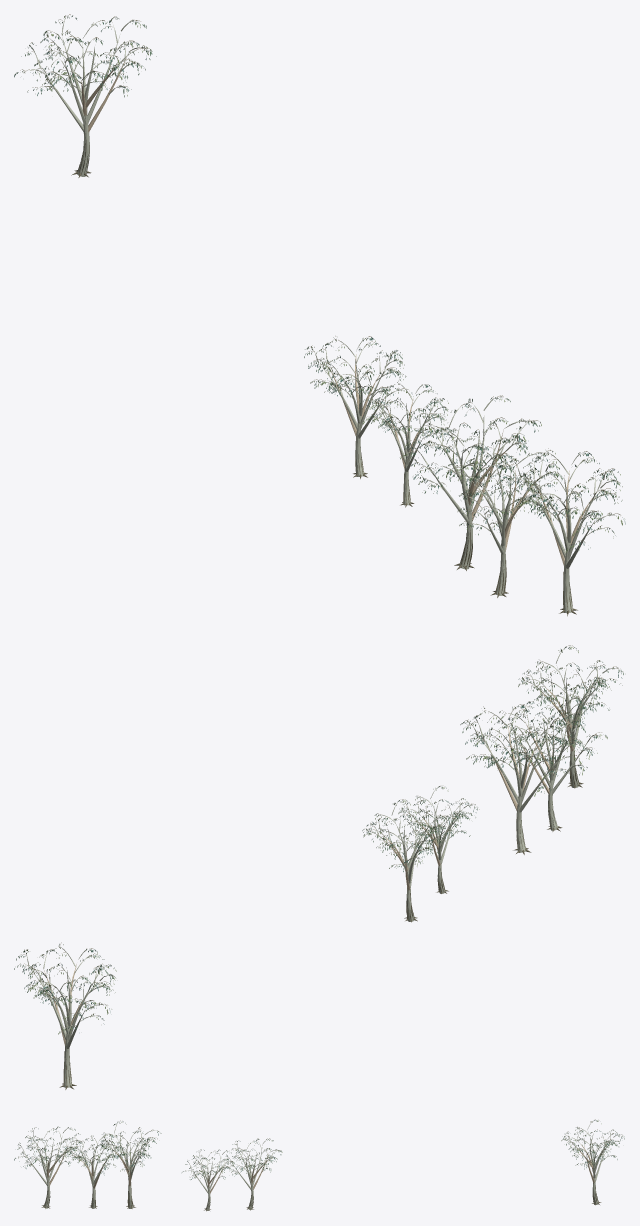
The model's file is ecology-eucalyptus-mid-8.glb.
3 renders of one model, top to bottom at view 1: azimuth 30°, elevation 25°; view 2: azimuth 150°, elevation 25°; view 3: azimuth 270°, elevation 25°, orthographic. The views are drawn at different scales.
Parts seen in each view (by area): view 1: eucalyptus-mid-85, eucalyptus-mid-88, eucalyptus-mid-87, eucalyptus-mid-86, eucalyptus-mid-83, eucalyptus-mid-84; view 2: eucalyptus-mid-85, eucalyptus-mid-88, eucalyptus-mid-87, eucalyptus-mid-86, eucalyptus-mid-83, eucalyptus-mid-84; view 3: eucalyptus-mid-87, eucalyptus-mid-85, eucalyptus-mid-88, eucalyptus-mid-83, eucalyptus-mid-86, eucalyptus-mid-84.
Part boxes in pixels (x1,y1,x2,y2): eucalyptus-mid-85: [405, 395, 541, 570]; eucalyptus-mid-88: [14, 14, 156, 177]; eucalyptus-mid-87: [504, 448, 625, 616]; eucalyptus-mid-86: [446, 437, 563, 597]; eucalyptus-mid-83: [304, 336, 413, 478]; eucalyptus-mid-84: [360, 379, 450, 507]; eucalyptus-mid-85: [460, 704, 581, 854]; eucalyptus-mid-88: [14, 942, 116, 1089]; eucalyptus-mid-87: [518, 645, 623, 788]; eucalyptus-mid-86: [494, 701, 607, 831]; eucalyptus-mid-83: [362, 799, 454, 922]; eucalyptus-mid-84: [398, 786, 479, 893]; eucalyptus-mid-87: [14, 1126, 82, 1208]; eucalyptus-mid-85: [97, 1120, 161, 1208]; eucalyptus-mid-88: [561, 1119, 624, 1205]; eucalyptus-mid-83: [224, 1138, 282, 1210]; eucalyptus-mid-86: [68, 1133, 122, 1208]; eucalyptus-mid-84: [182, 1149, 234, 1211].
Bounding box in the file's own units: 20.54 × 19.57 × 110.
